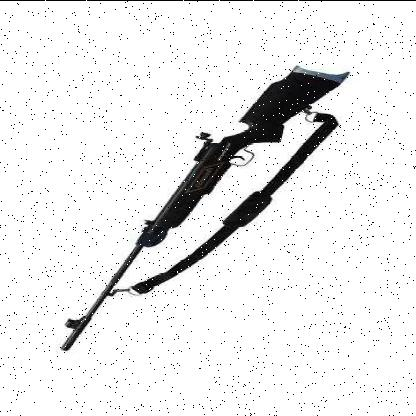rifle: (44, 52, 374, 356)
